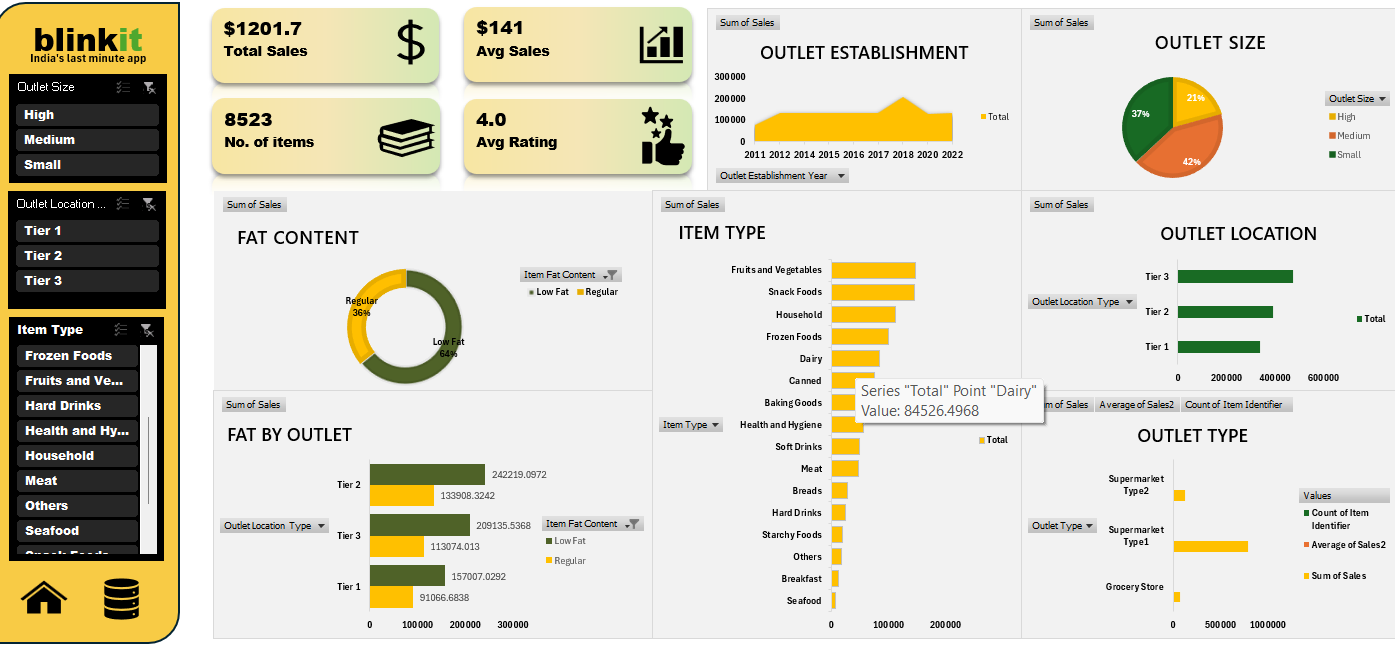

Layout of this report page (visuals, bound fields, positions):
{"tool":"powerbi","page":{"name":"Page 1","canvas":[1280,720],"ordinal":0},"visuals":[{"type":"shape","box":[0,0,202.6,719.5],"z":0},{"type":"textbox","box":[9.1,15.6,184.3,74.7],"z":1000},{"type":"textbox","box":[29.9,75.3,144.6,31.3],"z":2000},{"type":"cardVisual","fields":{"Data":["blinkit.Total Sales","blinkit.Avg Sales","blinkit.Total Items","blinkit.Avg Rating"]},"box":[219.5,0,523.4,250.6],"z":3000},{"type":"shape","box":[219.5,250.6,523.4,467.5],"z":4000},{"type":"donutChart","title":"FAT CONTENT","fields":{"Y":["blinkit.Total Sales"],"Category":["blinkit.Item_Fat_content"]},"box":[235.1,309.1,246.8,190.9],"z":5000},{"type":"slicer","fields":{"Values":["Metrics.Metrics"]},"box":[249.4,270.4,451.9,39.5],"z":6000},{"type":"clusteredBarChart","title":"FAT BY OUTLET","fields":{"Y":["blinkit.Total Sales"],"Category":["blinkit.Outlet_Location_Type"],"Series":["blinkit.Item_Fat_content"]},"box":[235.1,500,240.3,207.8],"z":7000},{"type":"shape","box":[229.9,484.4,245.5,31.2],"z":8000},{"type":"shape","box":[433.8,309.1,84.4,387],"z":9000},{"type":"barChart","title":"ITEM TYPE","fields":{"Y":["blinkit.Total Sales"],"Category":["blinkit.Item_type"]},"box":[481.8,309.1,241.6,398.7],"z":10000},{"type":"shape","box":[742.9,0,537.7,718.2],"z":11000},{"type":"lineChart","title":"OUTLET ESTABLISHMENT","fields":{"Category":["blinkit.Outlet_Establishment_Year"],"Y":["blinkit.Total Sales"]},"box":[754.5,15.6,515.6,235.1],"z":12000},{"type":"shape","box":[754.5,239,502.6,31.2],"z":13000},{"type":"donutChart","title":"OUTLET SIZE","fields":{"Y":["blinkit.Total Sales"],"Category":["blinkit.Outlet_Size"]},"box":[754.5,254.5,266.2,224.7],"z":14000},{"type":"shape","box":[977.9,270.1,84.4,209.1],"z":15000},{"type":"funnel","title":"OUTLET LOCATION","fields":{"Y":["blinkit.Total Sales"],"Category":["blinkit.Outlet_Location_Type"]},"box":[1020.8,254.5,249.4,224.7],"z":16000},{"type":"shape","box":[754.5,463.6,502.6,31.2],"z":17000},{"type":"pivotTable","title":"OUTLET TYPE","fields":{"Rows":["blinkit.Outlet_type"],"Values":["blinkit.Total Sales","blinkit.Total Items","blinkit.Avg Sales","blinkit.Avg Rating","Avg(blinkit.Item_Visibility)"]},"box":[754.5,484.4,515.6,223.4],"z":18000},{"type":"slicer","fields":{"Values":["blinkit.Outlet_Size"]},"box":[19.5,203.9,164.9,66.2],"z":19000},{"type":"slicer","fields":{"Values":["blinkit.Outlet_Location_Type"]},"box":[19.5,289.6,164.9,66.2],"z":20000},{"type":"slicer","fields":{"Values":["blinkit.Item_type"]},"box":[19.5,375.3,164.9,66.2],"z":21000}]}

Visuals, with their boxes on the page's 1280x720 design canvas (x1, y1, x2, y2). These are canvas units, not pixel positions in the 1395x657 screenshot, which may show the page scaled, cropped or inside an application window:
shape: [x1=0, y1=0, x2=203, y2=720]
textbox: [x1=9, y1=16, x2=193, y2=90]
textbox: [x1=30, y1=75, x2=174, y2=107]
cardVisual - blinkit.Total Sales x blinkit.Avg Sales: [x1=220, y1=0, x2=743, y2=251]
shape: [x1=220, y1=251, x2=743, y2=718]
"FAT CONTENT" donutChart: [x1=235, y1=309, x2=482, y2=500]
slicer - Metrics.Metrics: [x1=249, y1=270, x2=701, y2=310]
"FAT BY OUTLET" clusteredBarChart: [x1=235, y1=500, x2=475, y2=708]
shape: [x1=230, y1=484, x2=475, y2=516]
shape: [x1=434, y1=309, x2=518, y2=696]
"ITEM TYPE" barChart: [x1=482, y1=309, x2=723, y2=708]
shape: [x1=743, y1=0, x2=1281, y2=718]
"OUTLET ESTABLISHMENT" lineChart: [x1=754, y1=16, x2=1270, y2=251]
shape: [x1=754, y1=239, x2=1257, y2=270]
"OUTLET SIZE" donutChart: [x1=754, y1=254, x2=1021, y2=479]
shape: [x1=978, y1=270, x2=1062, y2=479]
"OUTLET LOCATION" funnel: [x1=1021, y1=254, x2=1270, y2=479]
shape: [x1=754, y1=464, x2=1257, y2=495]
"OUTLET TYPE" pivotTable: [x1=754, y1=484, x2=1270, y2=708]
slicer - blinkit.Outlet_Size: [x1=20, y1=204, x2=184, y2=270]
slicer - blinkit.Outlet_Location_Type: [x1=20, y1=290, x2=184, y2=356]
slicer - blinkit.Item_type: [x1=20, y1=375, x2=184, y2=442]
